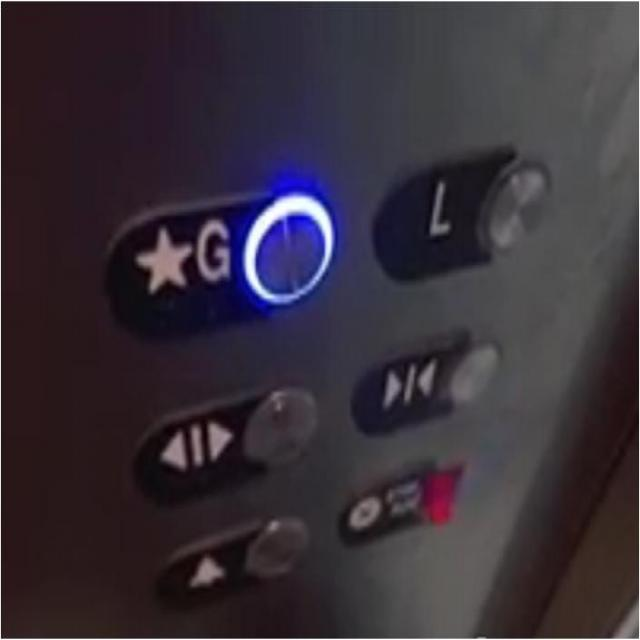L: (370, 133, 555, 286)
alarm: (158, 512, 311, 614)
close: (350, 322, 506, 433)
open: (132, 379, 318, 507)
sG: (103, 176, 342, 343)
stop: (333, 453, 472, 553)
